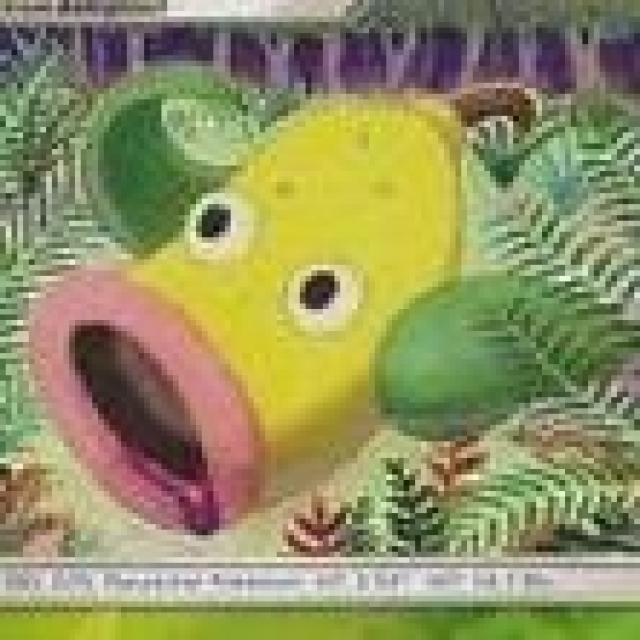Weepinbell: (61, 98, 496, 526)
